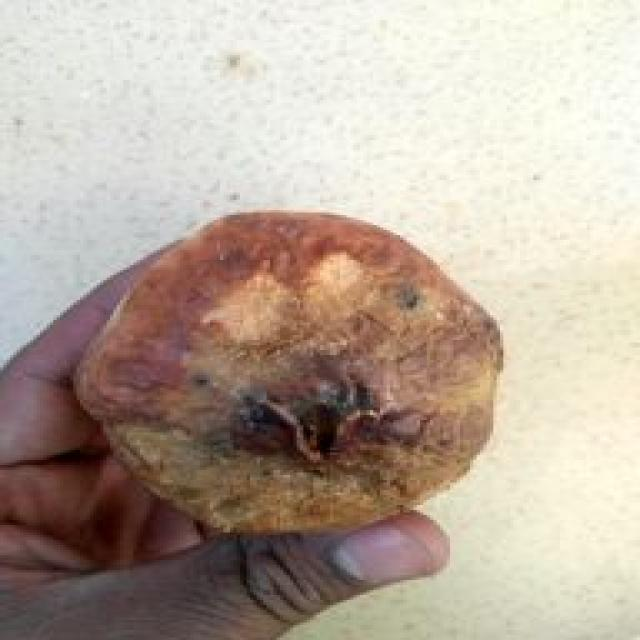Bad_Guava: (75, 212, 502, 532)
